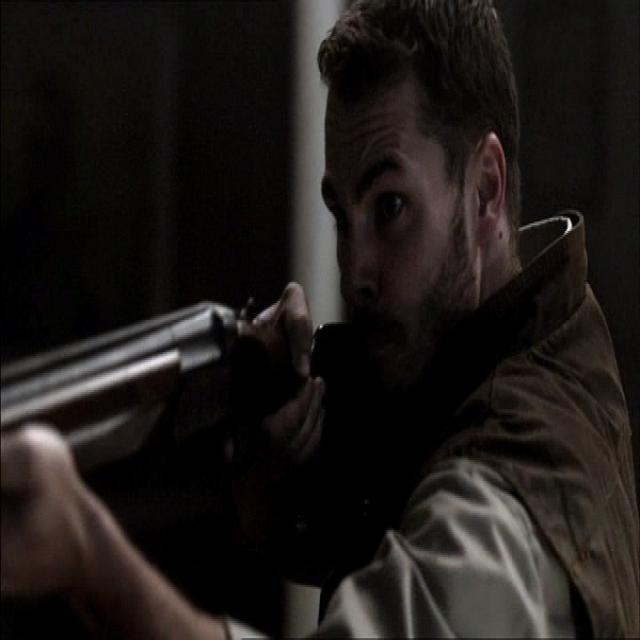rifle: (1, 294, 376, 509)
